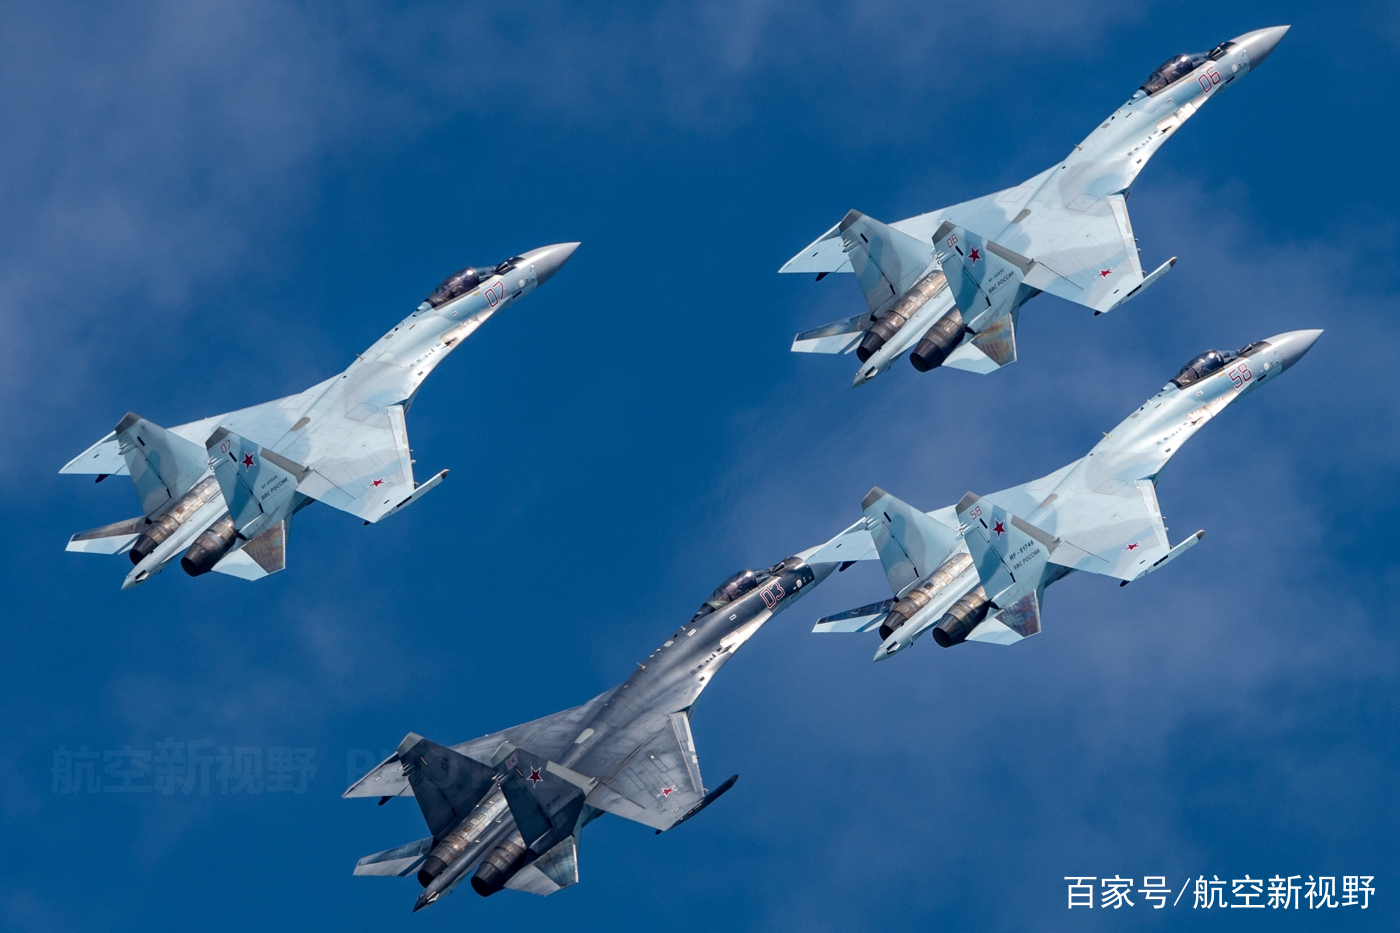airplane: (336, 520, 879, 921), (44, 227, 586, 614), (766, 25, 1301, 400), (804, 323, 1323, 667)
